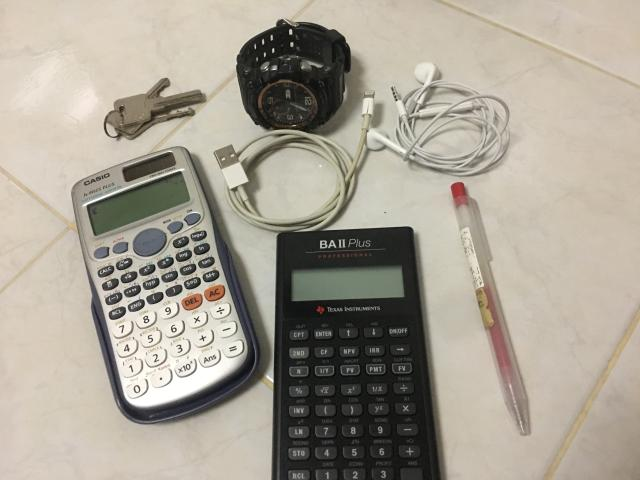Keys: (104, 78, 204, 139)
Pen: (451, 182, 530, 435)
Watch: (236, 20, 350, 131)
wire: (215, 91, 374, 231), (366, 63, 510, 176)
